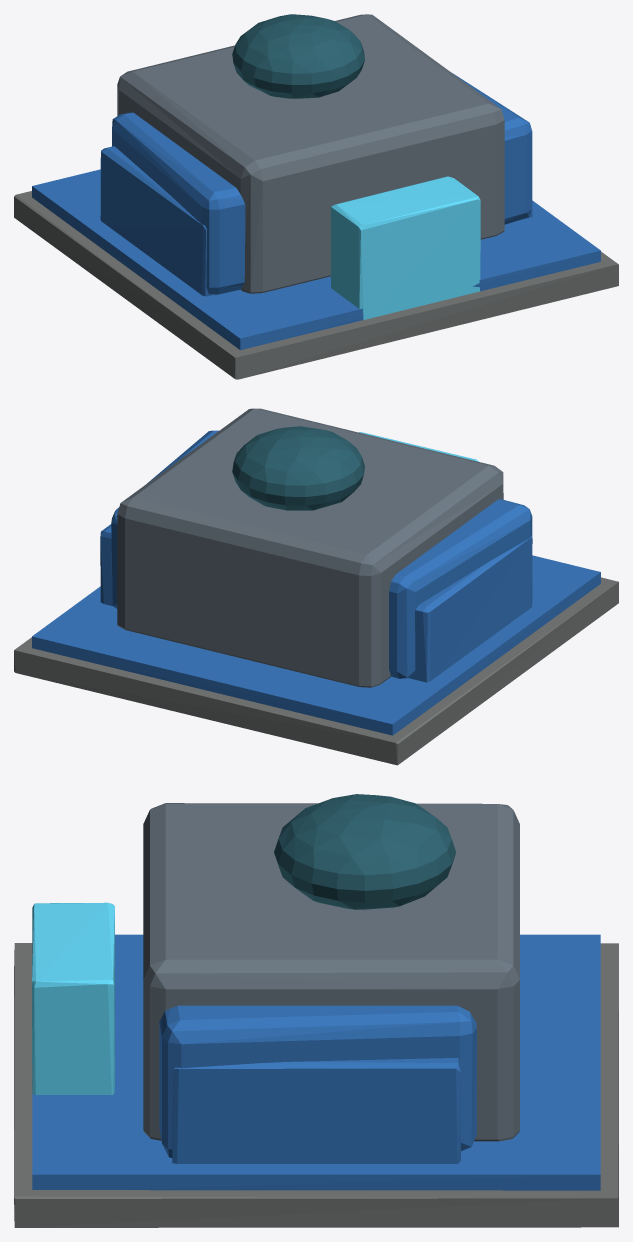
Rendered from SM_Alliance_AL_Barracks_LOD1.fbx.
The picture shows the model from 3 angles, top to bottom: view 1: azimuth 30°, elevation 25°; view 2: azimuth 150°, elevation 25°; view 3: azimuth 270°, elevation 25°; orthographic projection. The views are drawn at different scales.
Parts seen in each view (by area): view 1: LOD01_SM_Alliance_AL_Barracks; view 2: LOD01_SM_Alliance_AL_Barracks; view 3: LOD01_SM_Alliance_AL_Barracks.
Boxes of the visible parts, <box> form: LOD01_SM_Alliance_AL_Barracks: <box>14,14,618,379</box>; LOD01_SM_Alliance_AL_Barracks: <box>14,408,618,765</box>; LOD01_SM_Alliance_AL_Barracks: <box>14,794,618,1227</box>.
Bounding box in the file's own units: 597 × 598 × 319.
